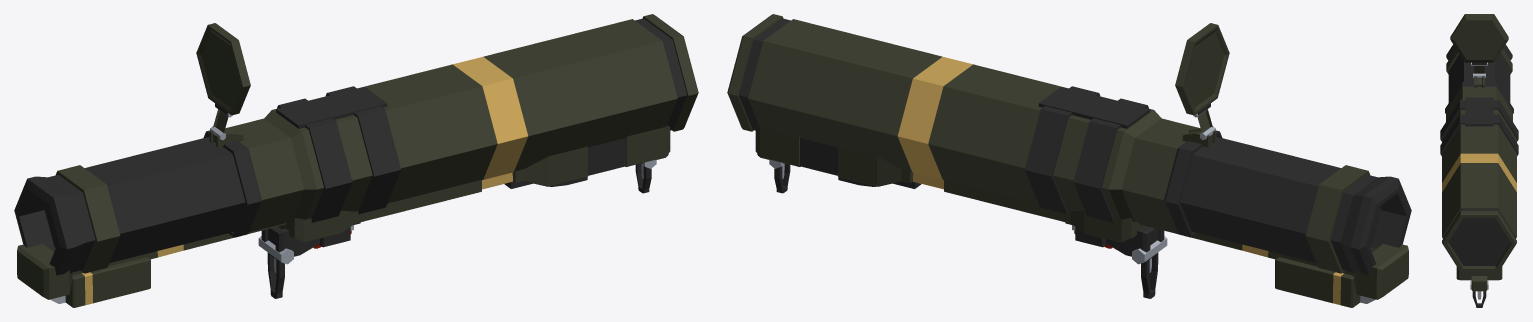
Rendered from missile.glb.
The picture shows the model from 3 angles, left to right: view 1: azimuth 30°, elevation 25°; view 2: azimuth 150°, elevation 25°; view 3: azimuth 270°, elevation 25°; orthographic projection. The views are drawn at different scales.
Visible parts, largest first — view 1: Cylinder_GreenMetal_0; view 2: Cylinder_GreenMetal_0; view 3: Cylinder_GreenMetal_0.
Part boxes in pixels (x1=…): Cylinder_GreenMetal_0: x1=14, y1=14, x2=698, y2=307; Cylinder_GreenMetal_0: x1=727, y1=14, x2=1411, y2=307; Cylinder_GreenMetal_0: x1=1440, y1=14, x2=1518, y2=307.
Size of the model in its own units: 5.57 by 2.31 by 0.947.
